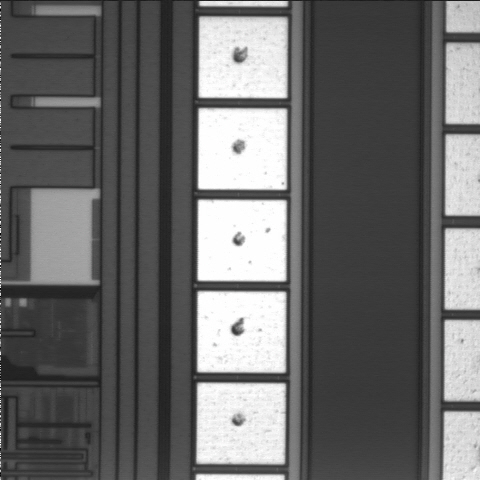pad: (198, 108, 287, 190), (197, 291, 286, 373), (198, 200, 287, 281), (197, 383, 286, 464), (199, 17, 287, 98)
